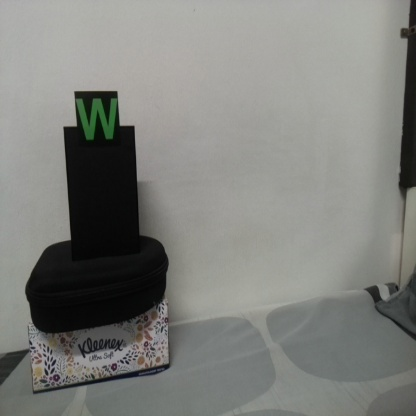id_12: (75, 91, 120, 154)
